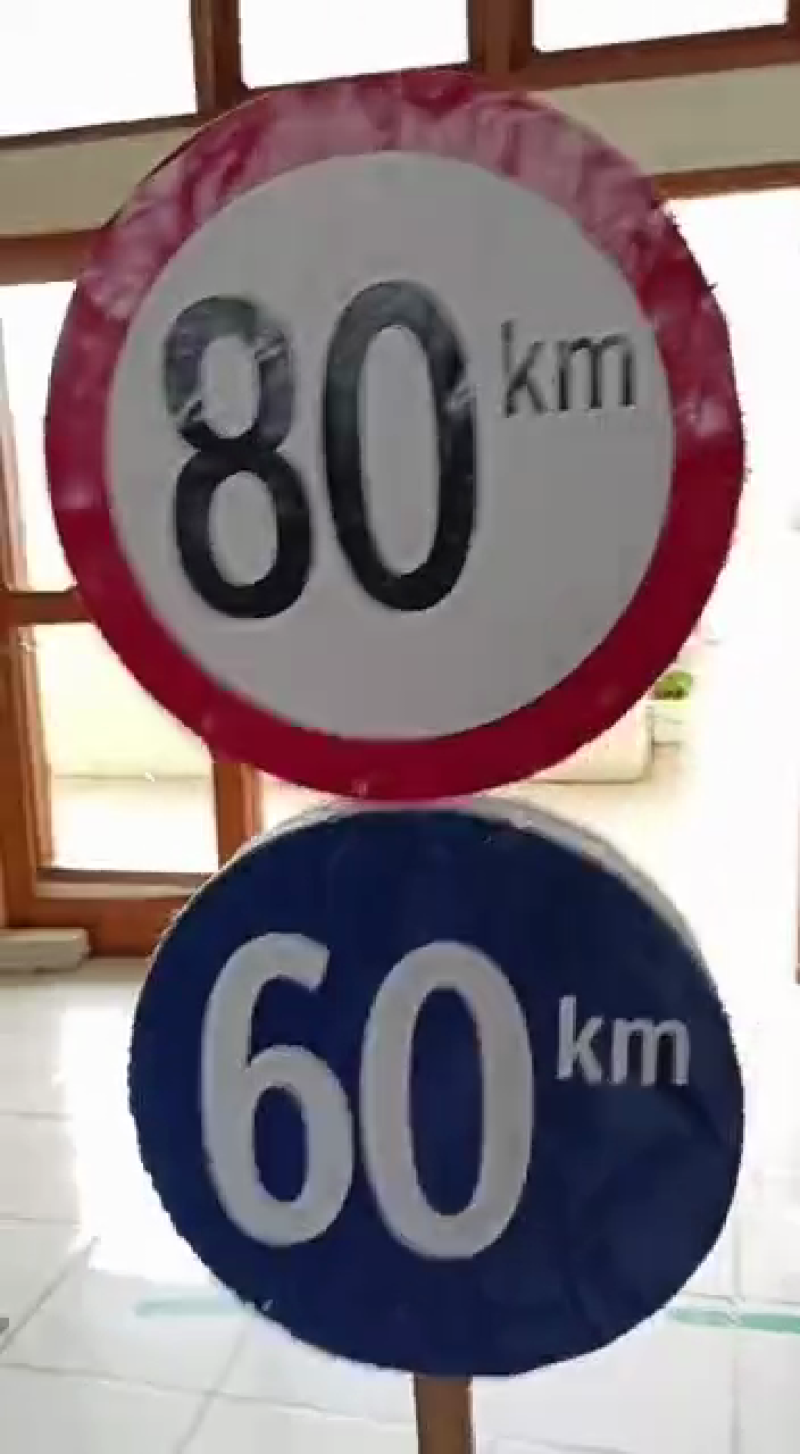batas maksimal 80kmperjam minimal 60kmperjam: (42, 61, 752, 1382)
